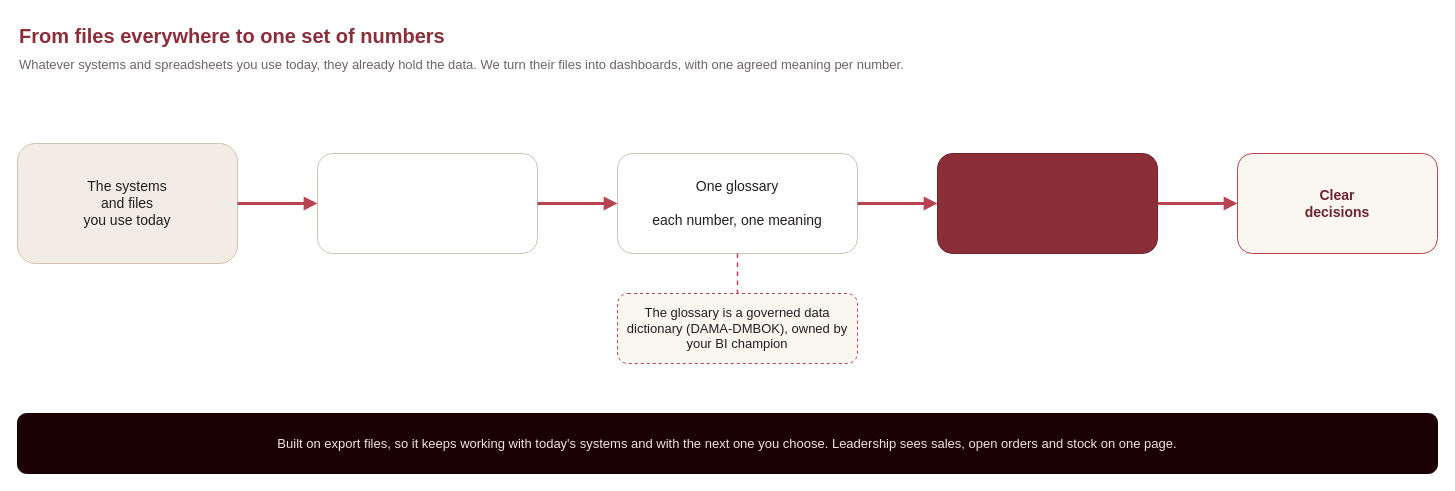
Some shapes in this 1455 by 491 pixel diagram are drawn without their labels. Each missing label, with the box of its shape:
Dashboards your team keeps current: (936, 152, 1158, 254)
Export files simple, safe copies: (316, 152, 538, 254)
